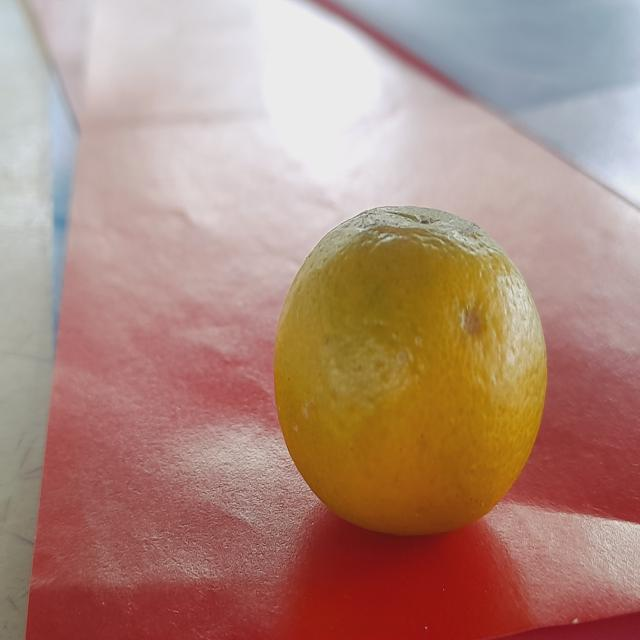greening: (273, 200, 553, 534)
